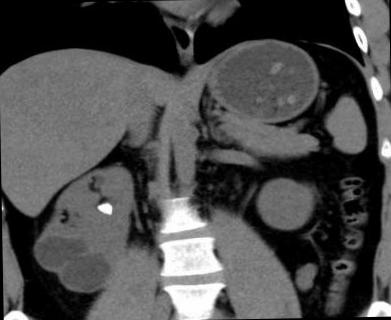Tas_Var: (94, 200, 115, 218)
